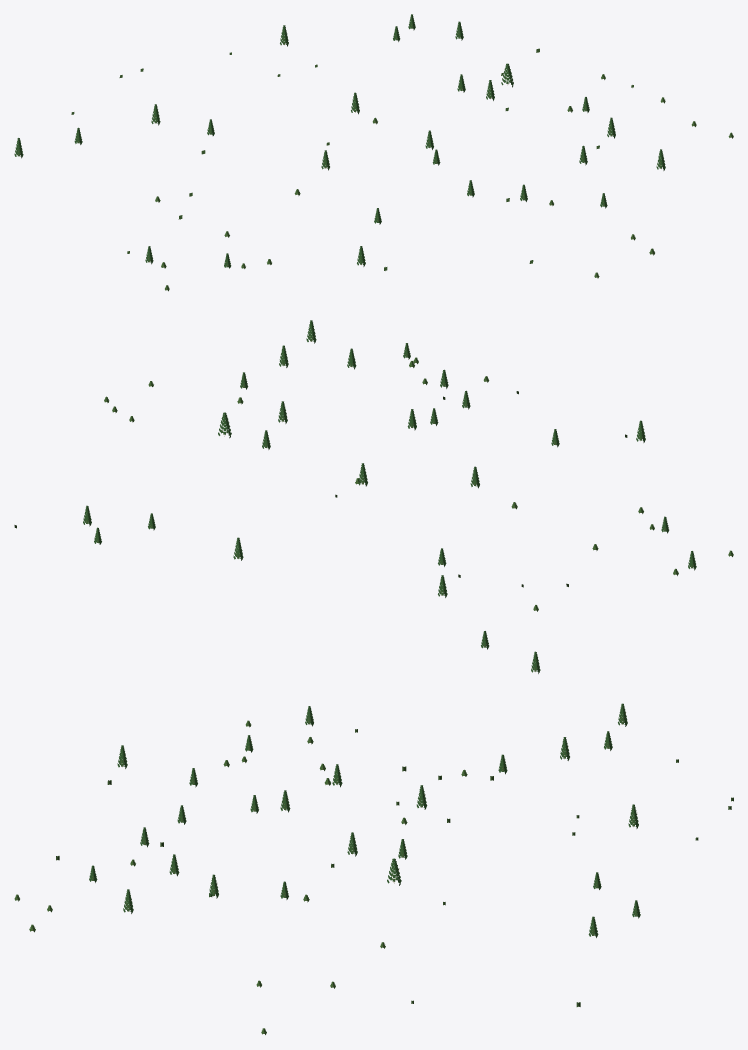
Rendered from arch_canopy_coil_isle_lod1.glb.
3 views of the same model, one above another, from view 1: azimuth 30°, elevation 25°; view 2: azimuth 150°, elevation 25°; view 3: azimuth 270°, elevation 25° (orthographic). The views are drawn at different scales.
Visible parts, largest first — view 1: arch_canopy_coil_isle_lod1; view 2: arch_canopy_coil_isle_lod1; view 3: arch_canopy_coil_isle_lod1.
Boxes of the visible parts, left/top/right/bottom form: arch_canopy_coil_isle_lod1: left=14, top=14, right=733, bottom=291; arch_canopy_coil_isle_lod1: left=14, top=320, right=733, bottom=673; arch_canopy_coil_isle_lod1: left=14, top=703, right=733, bottom=1034.
Size of the model in its own units: 197 by 29.59 by 188.
